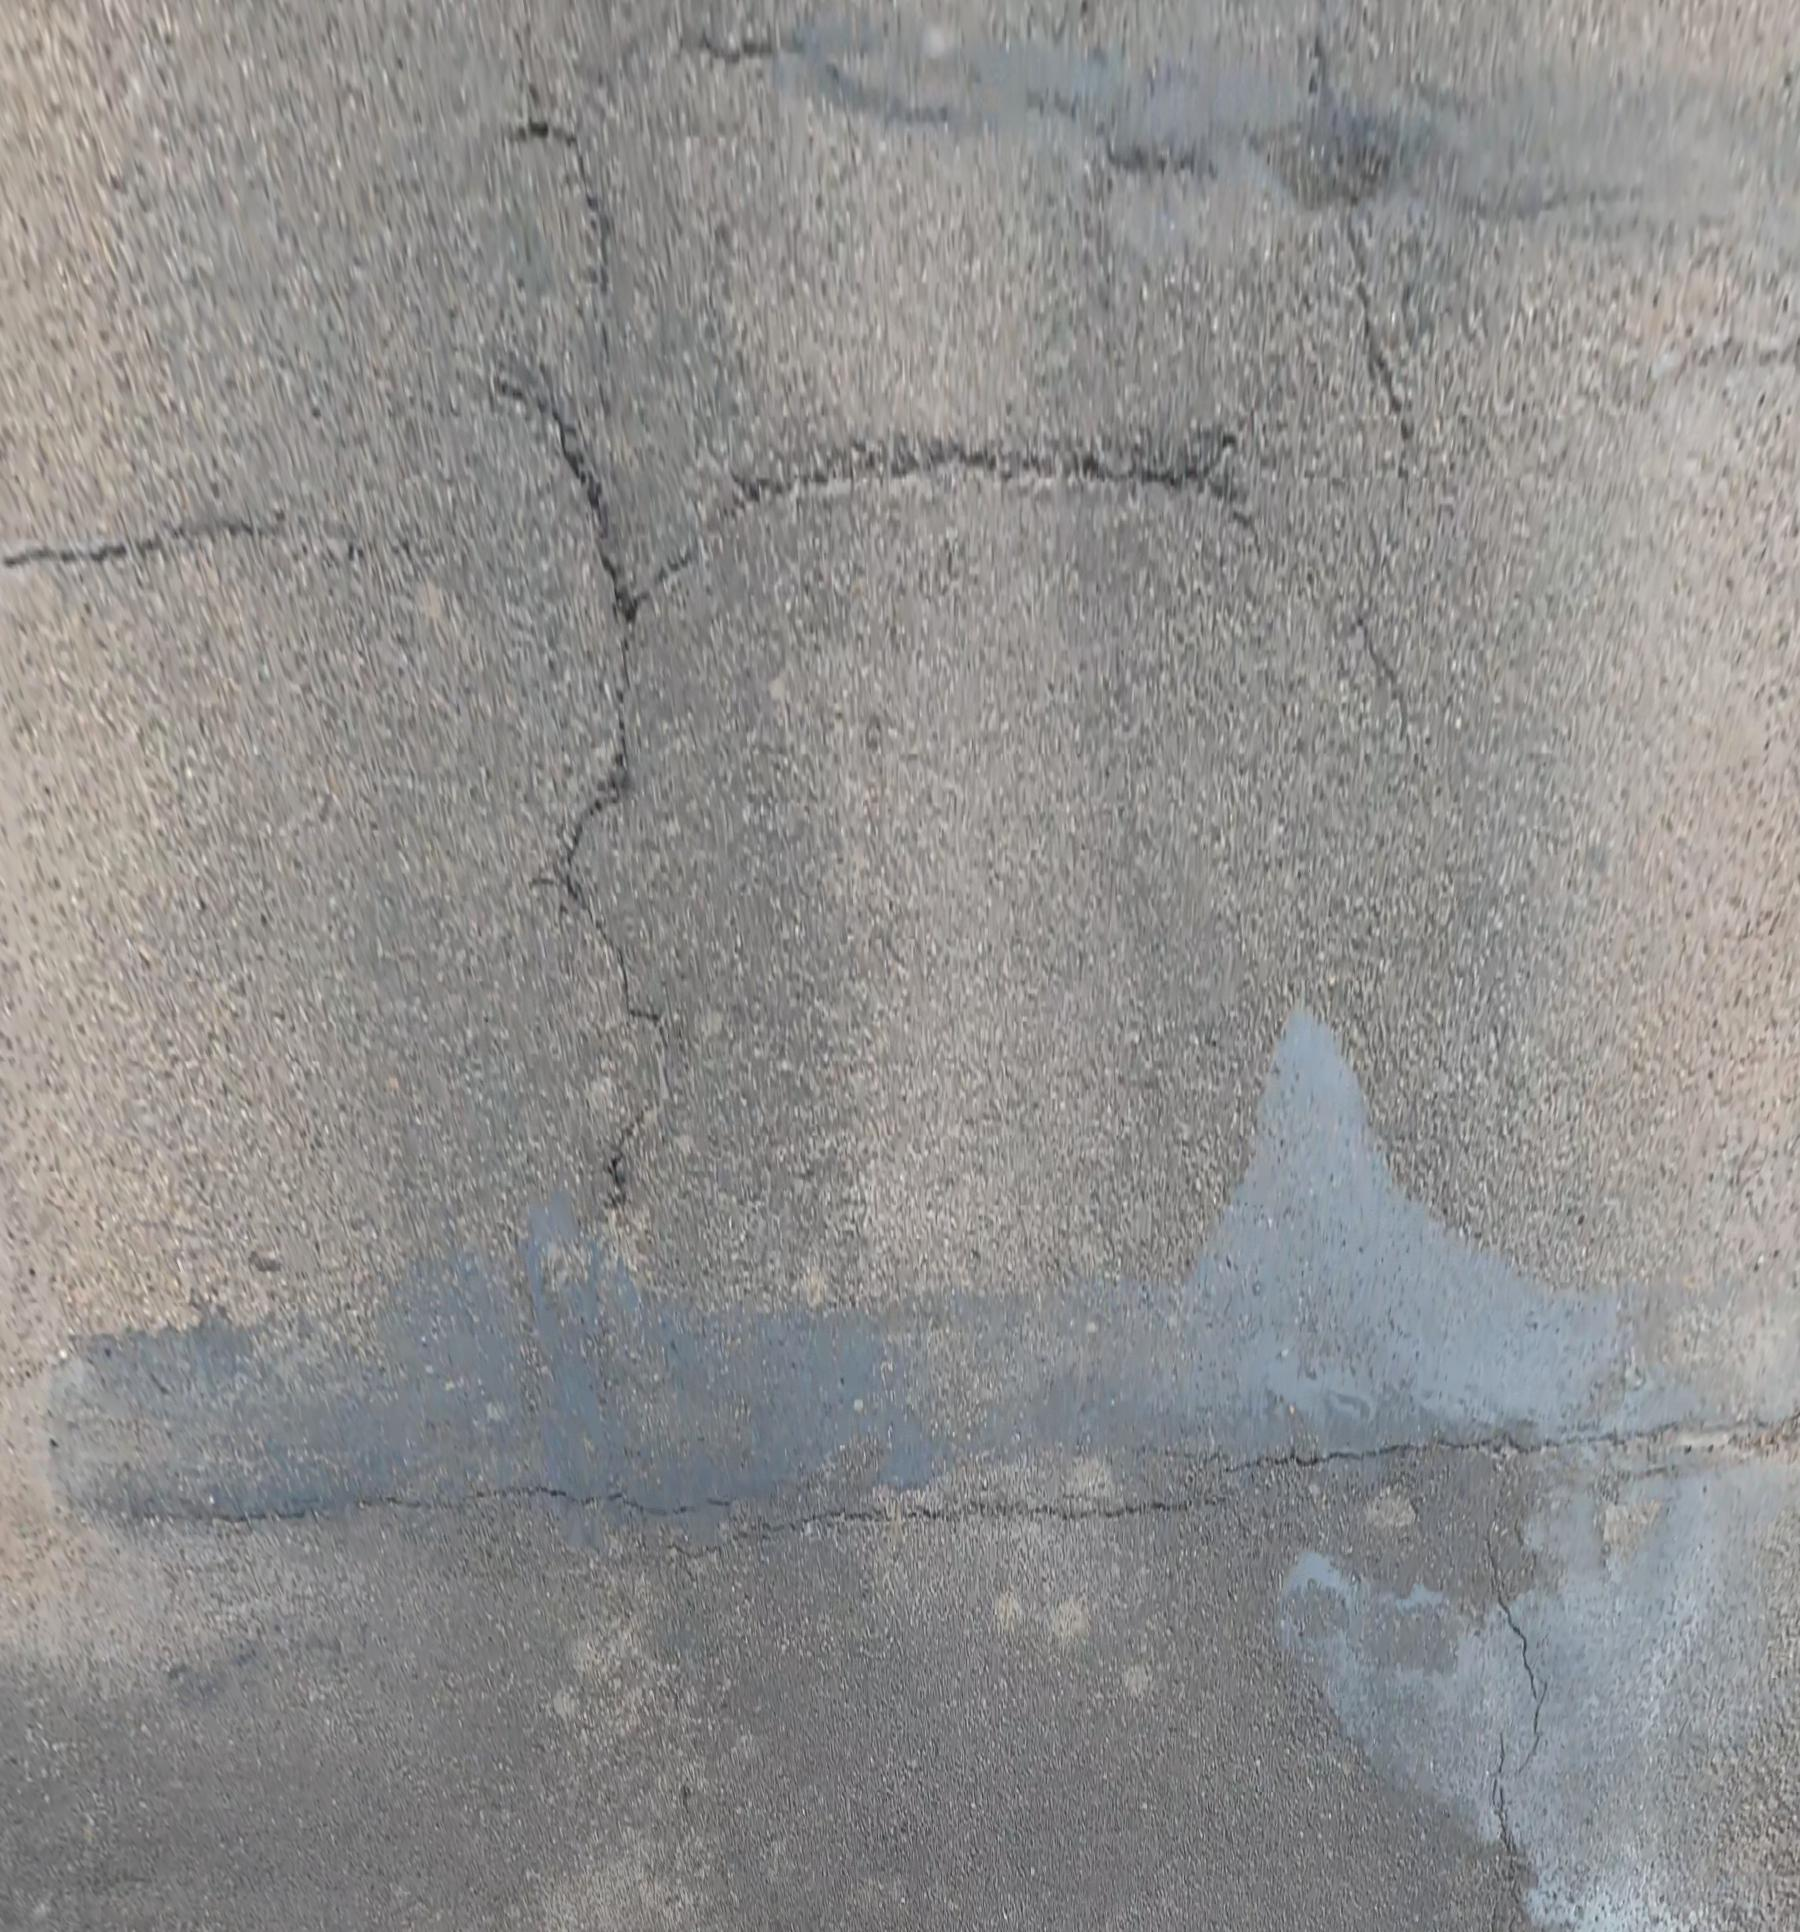pothole_patch_good: (47, 1013, 1729, 1521)
pothole_patch_poor: (1284, 1458, 1800, 1932), (787, 14, 1440, 261)
